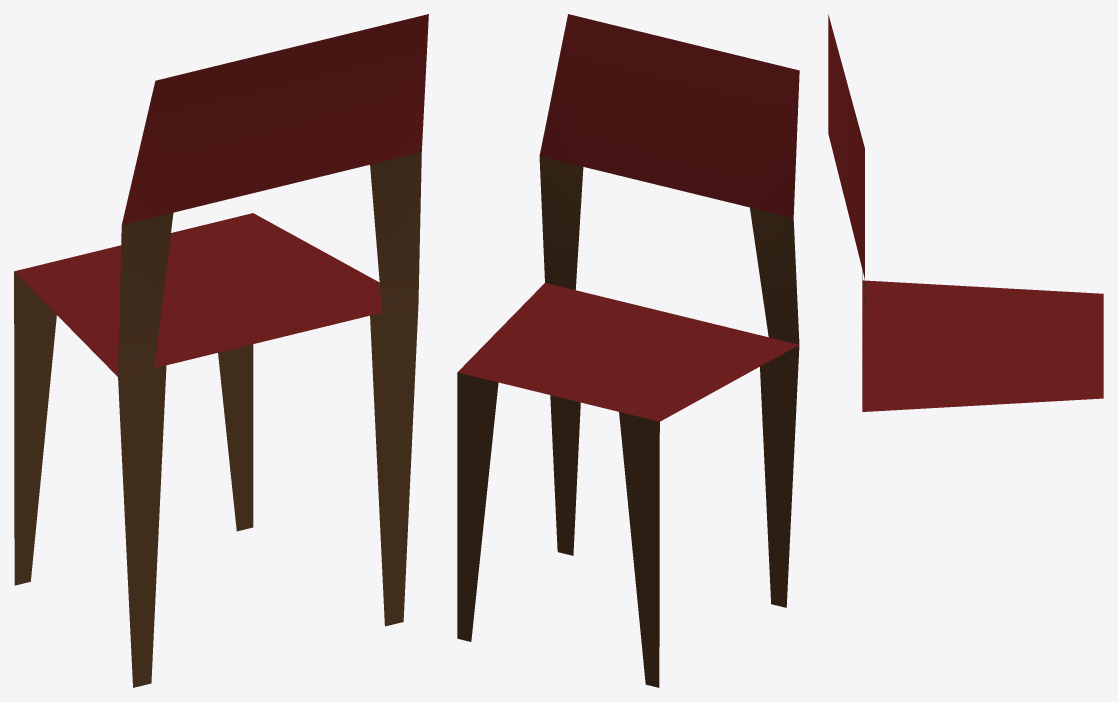
Rendered from chair.glb.
The picture shows the model from 3 angles, left to right: view 1: azimuth 30°, elevation 25°; view 2: azimuth 150°, elevation 25°; view 3: azimuth 270°, elevation 25°; orthographic projection. The views are drawn at different scales.
Parts seen in each view (by area): view 1: chair; view 2: chair; view 3: chair.
Part boxes in pixels (x1,y1,x2,y2): chair: [14, 14, 428, 687]; chair: [457, 14, 799, 687]; chair: [828, 14, 1103, 411].
Size of the model in its own units: 0.3227 by 0.6262 by 0.2804.
Materials: 1 (1 with a texture image).
